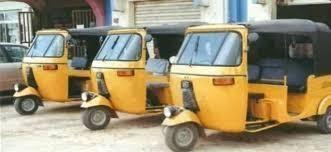keke: (160, 21, 331, 152), (81, 20, 160, 132), (13, 25, 80, 116)
